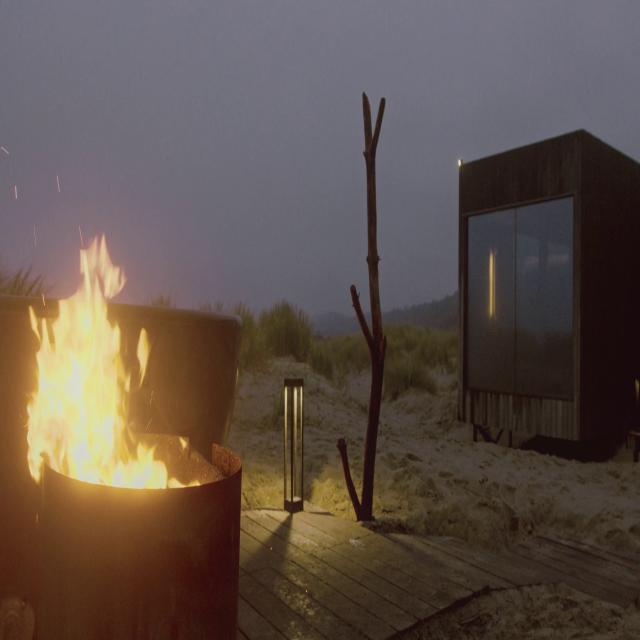Fire: (21, 222, 179, 491)
